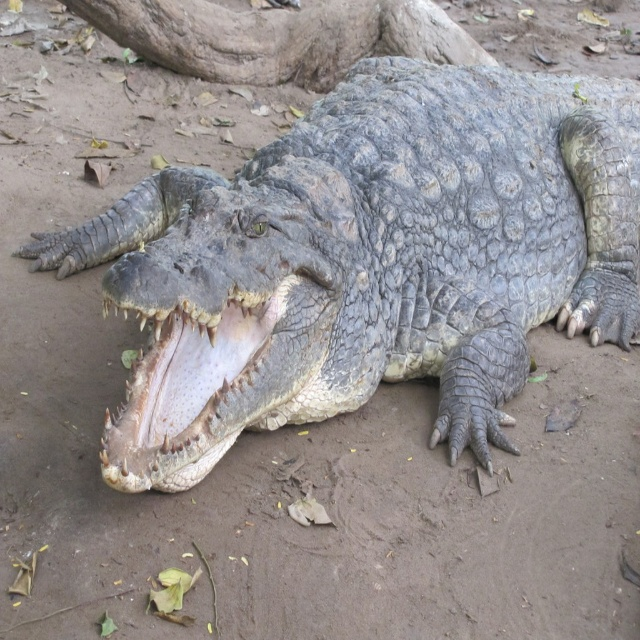Crocodile: (10, 52, 640, 494)
